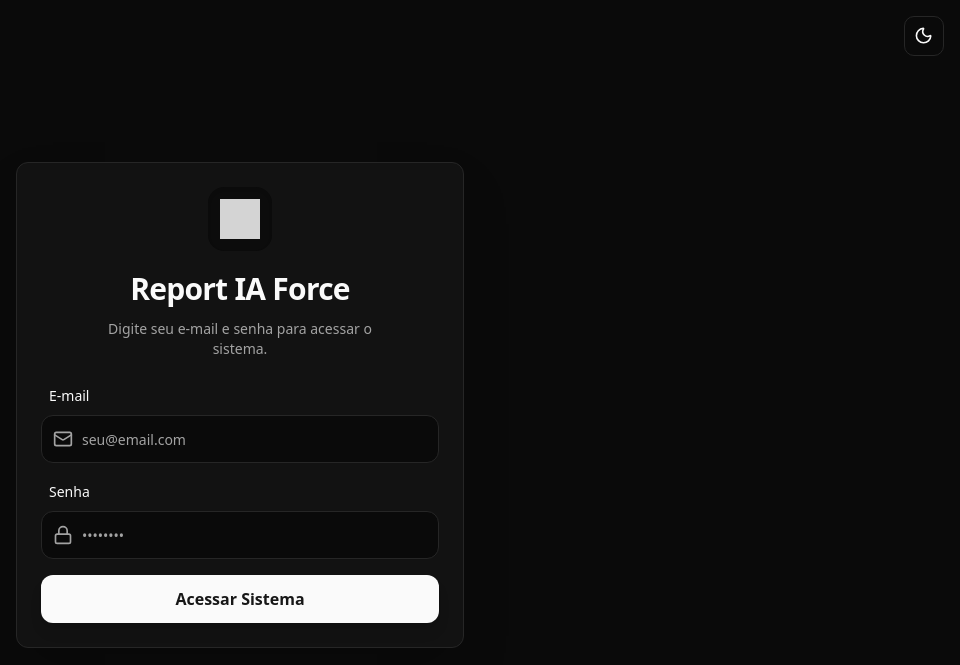
Scenario: Login Component › mostra "Autenticando..." ao submeter
The image size is (960, 665).
Type "admin@teste.com" into the field with placeholder "seu@email.com" at (240, 439), box [41, 415, 439, 463]
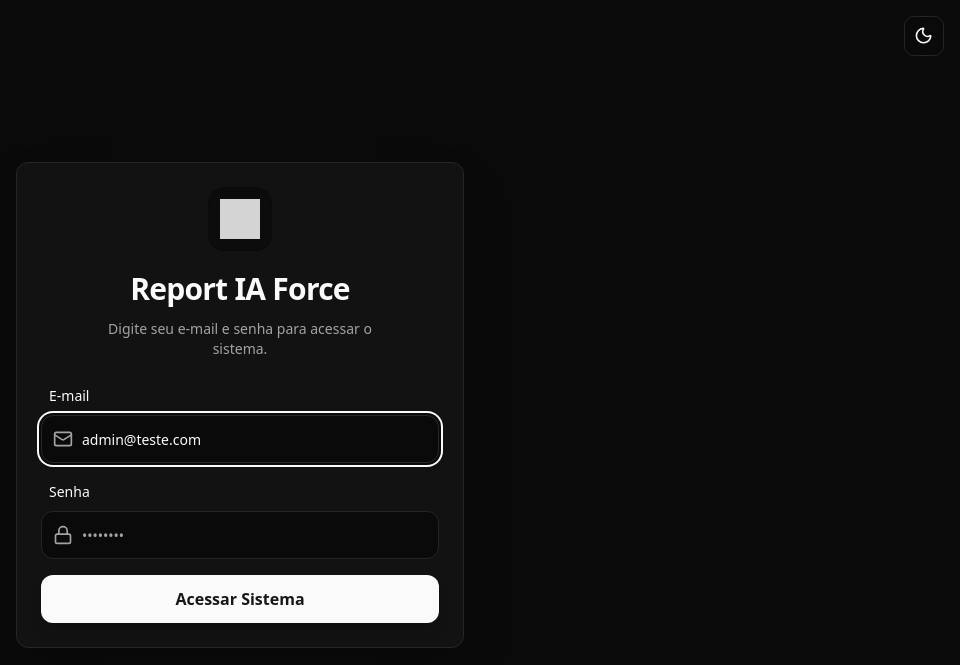
Type "admin123" into the password field with placeholder "••••••••" at (240, 535), box [41, 511, 439, 559]
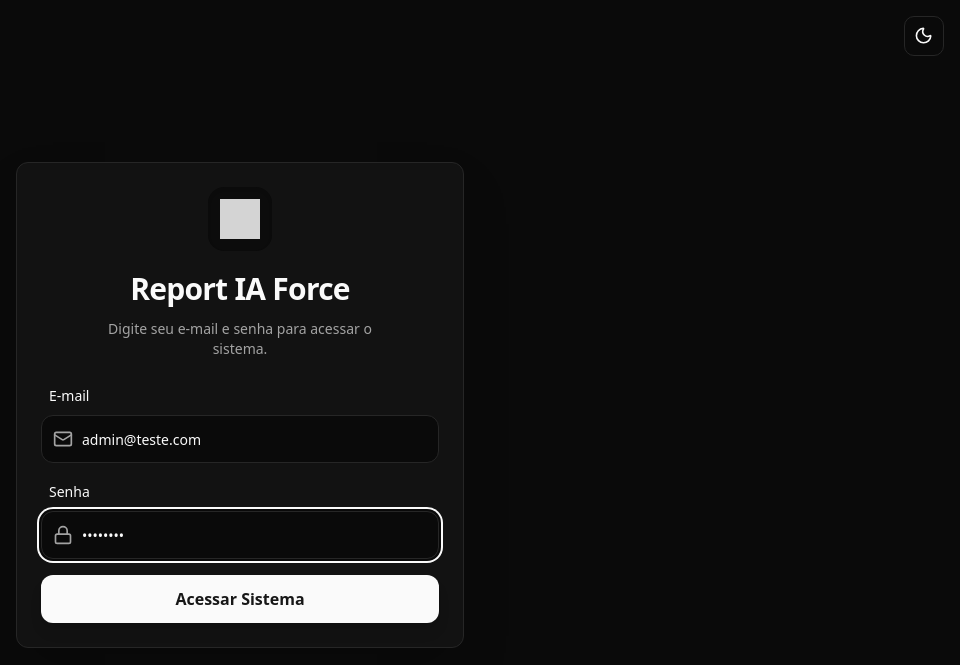
Click the button "Acessar Sistema" at (240, 599), box [41, 575, 439, 623]
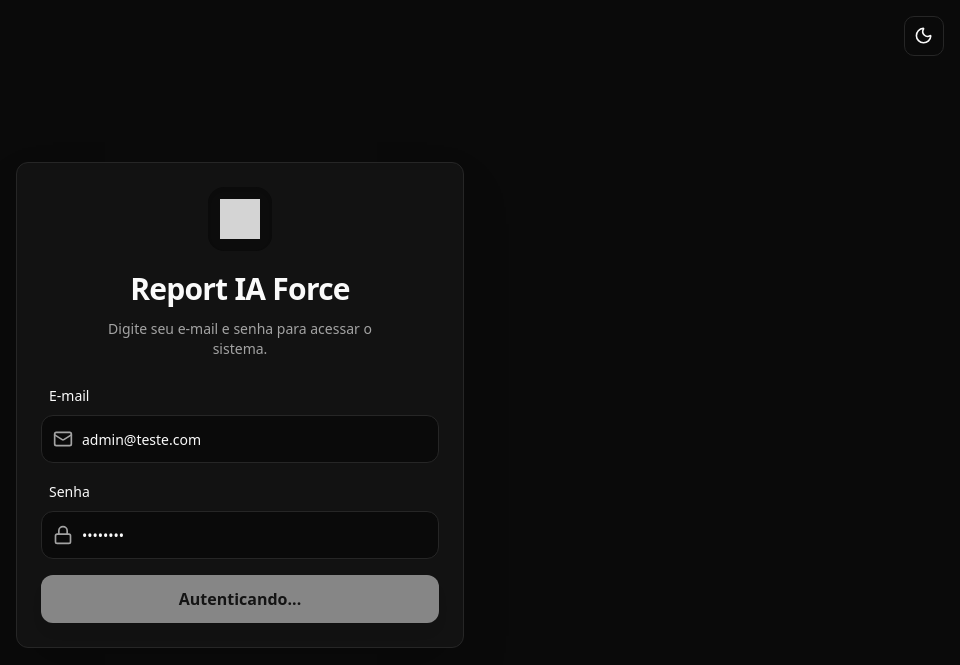
Check: the button "Autenticando..." is shown, box [41, 575, 439, 623]
